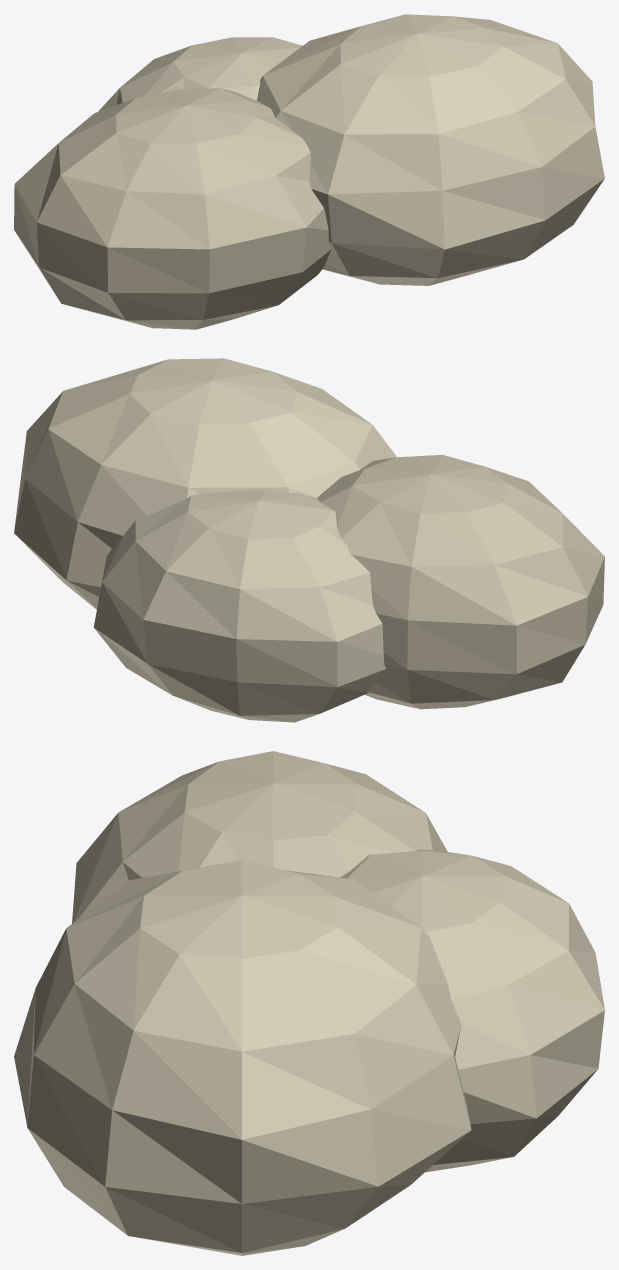
Rendered from shrub-brown.glb.
The picture shows the model from 3 angles, top to bottom: view 1: azimuth 30°, elevation 25°; view 2: azimuth 150°, elevation 25°; view 3: azimuth 270°, elevation 25°; orthographic projection. The views are drawn at different scales.
Visible parts, largest first — view 1: shrub-brown; view 2: shrub-brown; view 3: shrub-brown.
Part boxes in pixels (x1=…): shrub-brown: x1=14, y1=14, x2=604, y2=329; shrub-brown: x1=14, y1=358, x2=604, y2=722; shrub-brown: x1=14, y1=751, x2=604, y2=1255.
Size of the model in its own units: 2225 by 910 by 1509.
